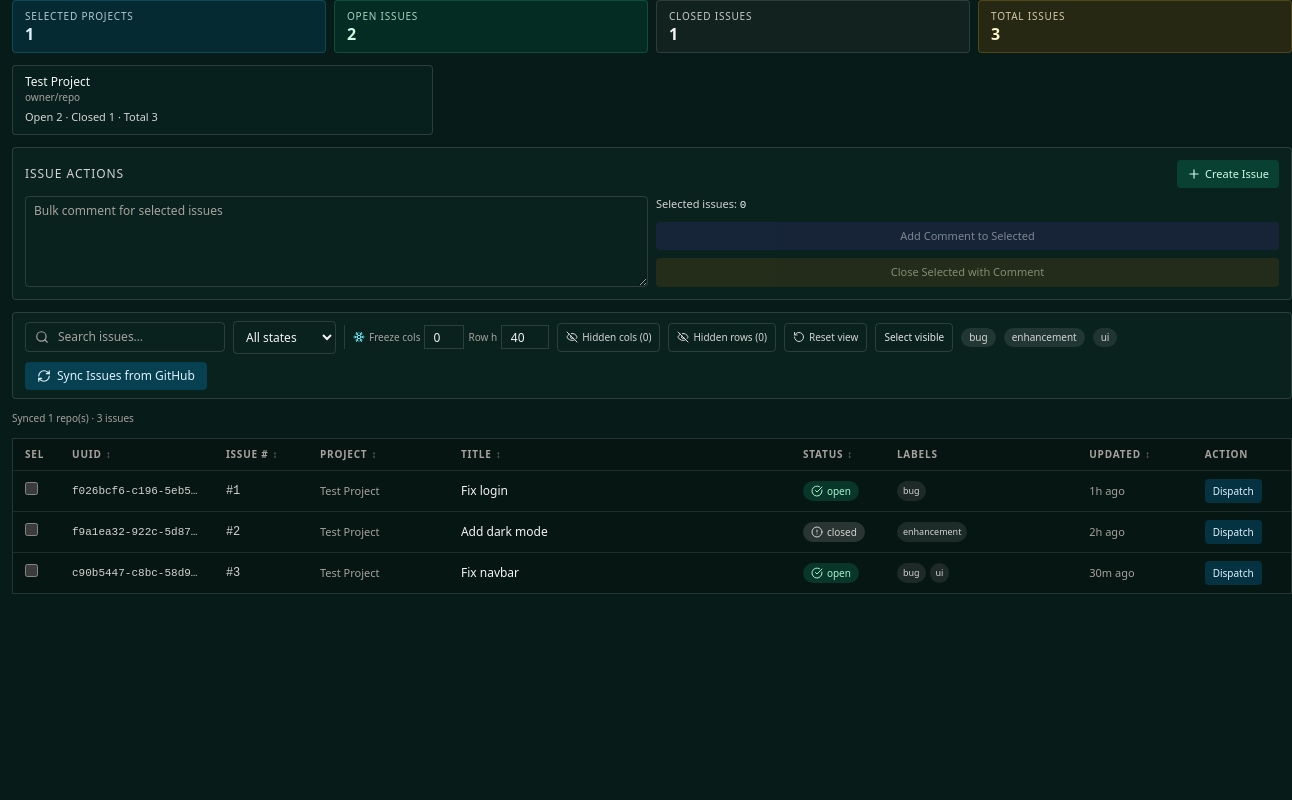
Test case: IssuesTab › label filter hides rows without matching label
Step 1. Click the button "enhancement" → (1044, 337), box [1004,328,1085,346]
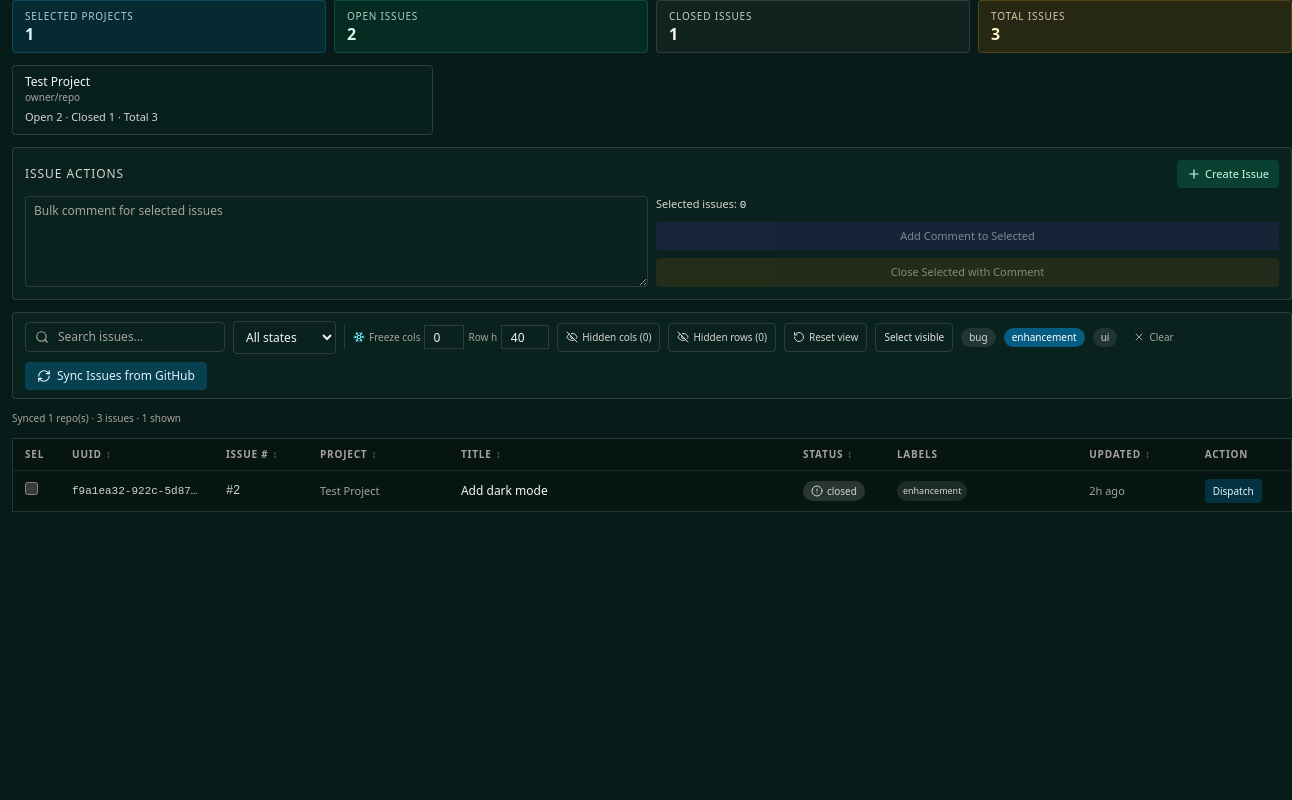
Check: the text "#2" is shown, box [226,484,240,498]
Check: the text "#1" is gone
Check: the text "#3" is gone
